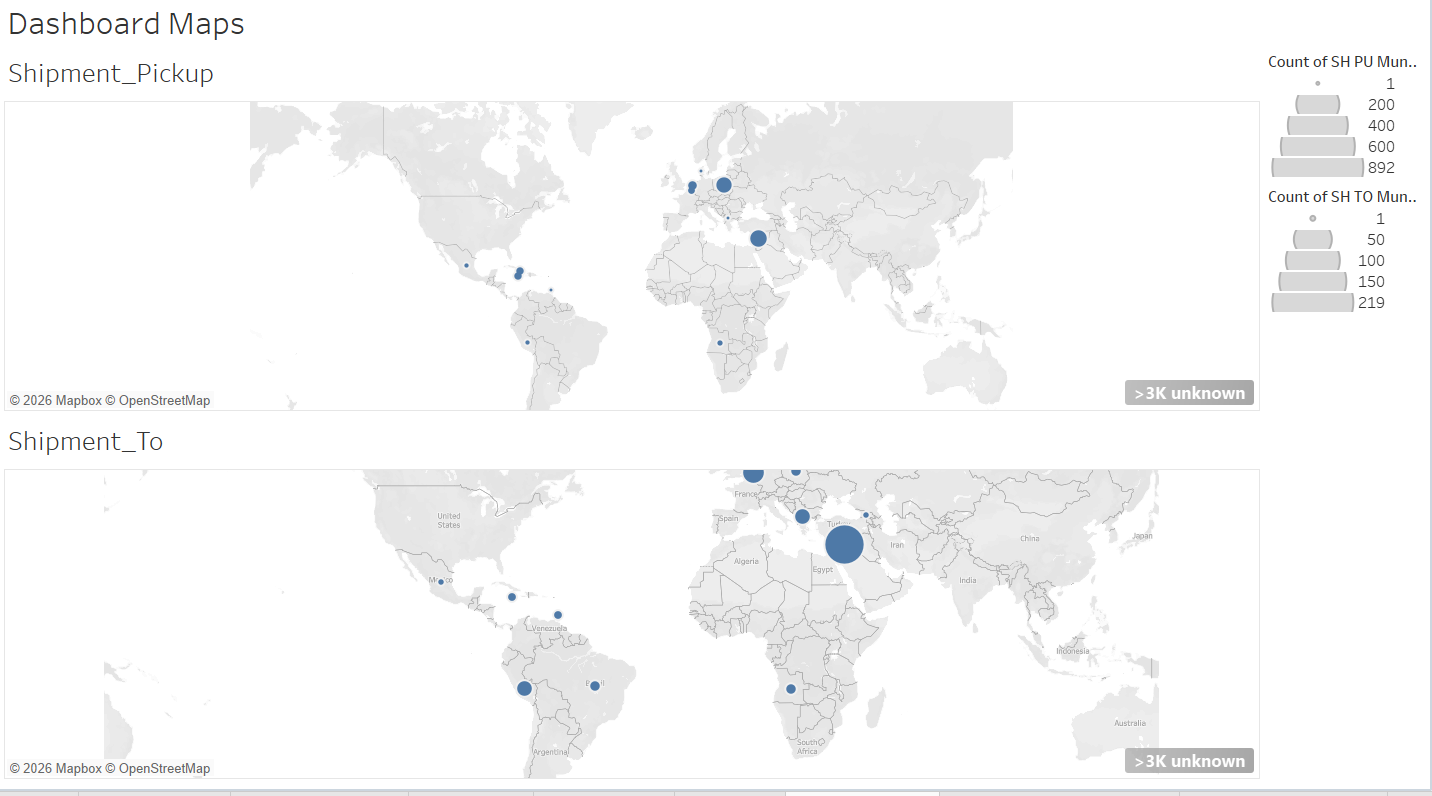

The page's visual inventory and layout, read from the dashboard file:
{"tool":"tableau","page":{"name":"Dashboard Maps","canvas":[1000,1000],"units":"permille","ordinal":1},"visuals":[{"type":"title","box":[5.6,10,988.9,62.4]},{"type":"worksheet","title":"Shipment_Pickup","mark":"Automatic","box":[5.6,72.3,877.8,458.8]},{"type":"legend","title":"Shipment_Pickup","param":"[federated.12h9gxd0rlrr8q1foczuk0ln33ta].[cnt:SH_PU_Municipality:qk]","box":[883.3,72.3,111.1,168.3]},{"type":"legend","title":"Shipment_To","param":"[federated.12h9gxd0rlrr8q1foczuk0ln33ta].[cnt:SH_TO_Municipality:qk]","box":[883.3,240.7,111.1,168.3]},{"type":"worksheet","title":"Shipment_To","mark":"Automatic","box":[5.6,531.2,877.8,458.9]}]}

Visuals, with their boxes on the dashboard's canvas, which has no fixed pixel size, in thousandths of its width and height (x1, y1, x2, y2). These are canvas units, not pixel positions in the 1432x796 screenshot, which may show the page scaled, cropped or inside an application window:
title: <region>6, 10, 994, 72</region>
"Shipment_Pickup" worksheet: <region>6, 72, 883, 531</region>
"Shipment_Pickup" legend: <region>883, 72, 994, 241</region>
"Shipment_To" legend: <region>883, 241, 994, 409</region>
"Shipment_To" worksheet: <region>6, 531, 883, 990</region>
